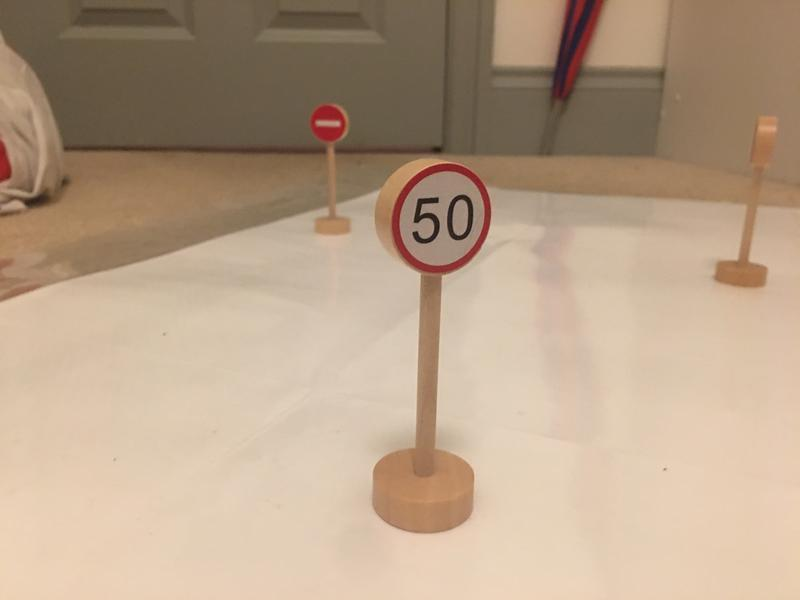Traffic_Sign_50: (394, 161, 490, 277)
Traffic_Sign_No_Entry: (310, 103, 347, 142)
